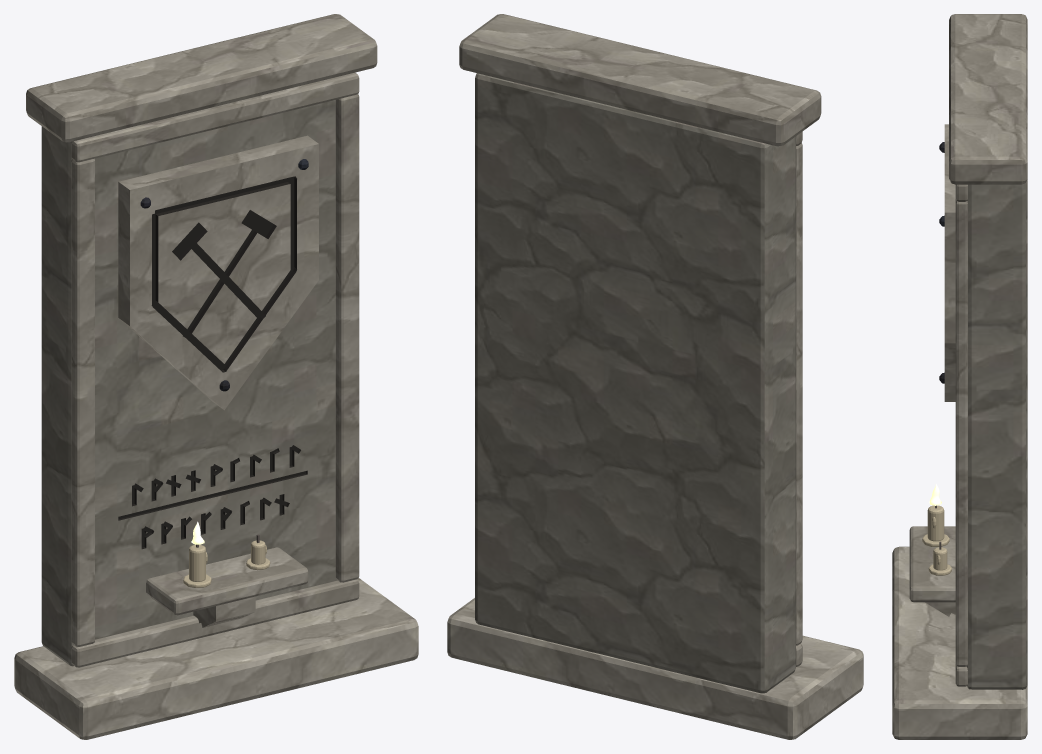
File: qb_crest_hammers.glb
The picture shows the model from 3 angles, left to right: view 1: azimuth 30°, elevation 25°; view 2: azimuth 150°, elevation 25°; view 3: azimuth 270°, elevation 25°; orthographic projection. The views are drawn at different scales.
Parts seen in each view (by area): view 1: model; view 2: model; view 3: model.
Boxes of the visible parts, x1,y1,x2,y2 form: model: [14, 14, 418, 739]; model: [447, 14, 863, 739]; model: [892, 14, 1027, 739].
Size of the model in its own units: 0.86 by 1.46 by 0.31.
Materials: 8 (4 with a texture image).
